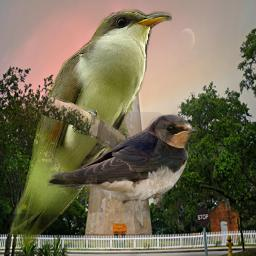Cuckoo: (8, 9, 172, 250)
Swallow: (47, 112, 198, 208)
